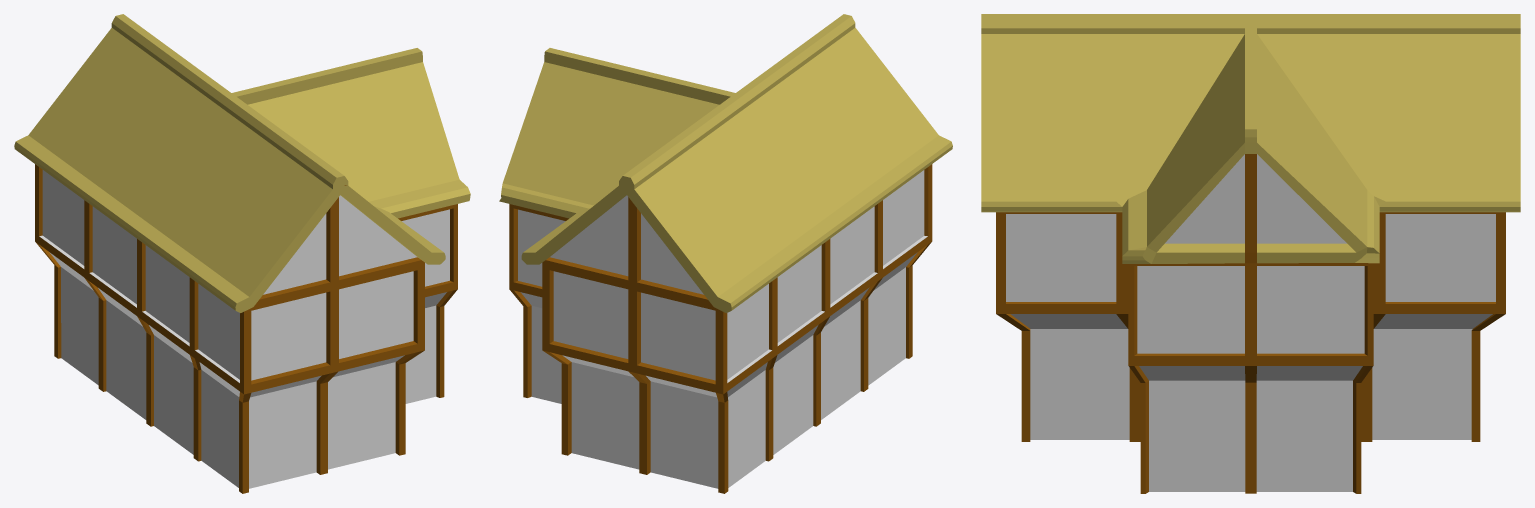
Rendered from Rustic Housing Large.fbx.
3 views of the same model, side by side, from view 1: azimuth 30°, elevation 25°; view 2: azimuth 150°, elevation 25°; view 3: azimuth 270°, elevation 25° (orthographic). The views are drawn at different scales.
Visible parts, largest first — view 1: Cube; view 2: Cube; view 3: Cube.
Part boxes in pixels (x1,y1,x2,y2): Cube: (14, 14, 470, 493); Cube: (499, 14, 952, 493); Cube: (981, 14, 1520, 493).
Size of the model in its own units: 679 by 679 by 880.
